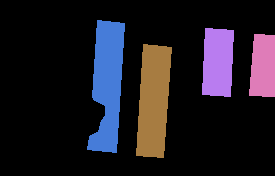parkingspot: (87, 20, 124, 152), (136, 44, 171, 157), (202, 28, 233, 96), (249, 34, 275, 96)
